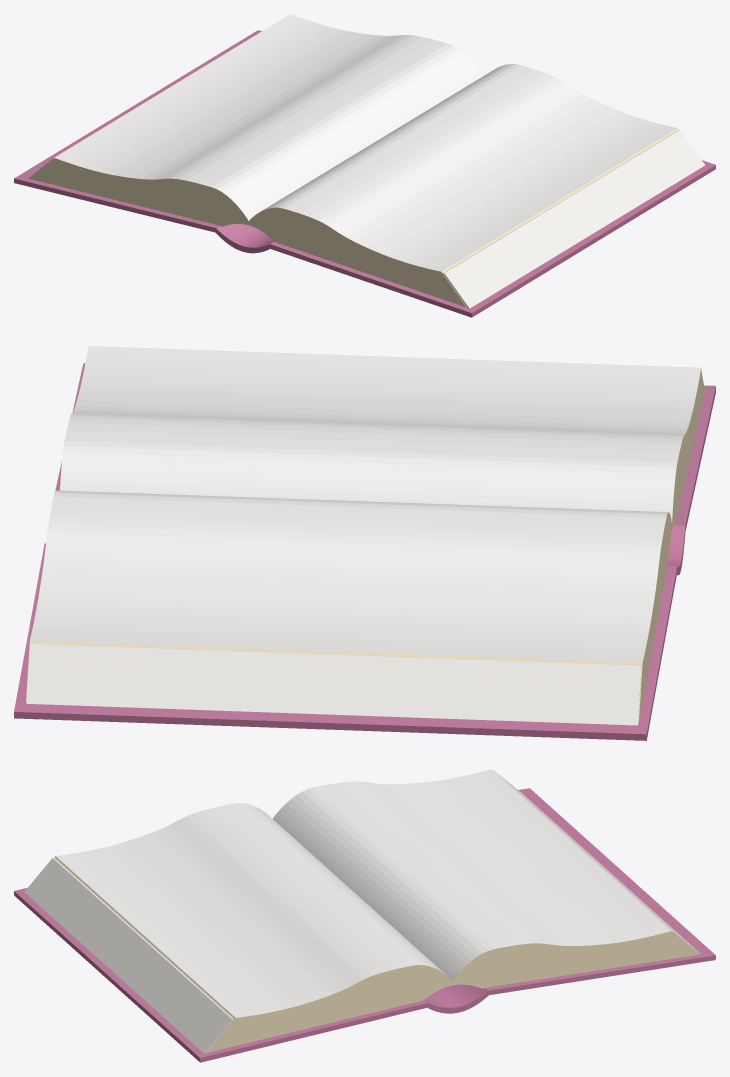
Rendered from opened_book.glb.
3 renders of one model, top to bottom at view 1: azimuth 30°, elevation 25°; view 2: azimuth 150°, elevation 25°; view 3: azimuth 270°, elevation 25°, orthographic. The views are drawn at different scales.
Parts seen in each view (by area): view 1: OPENBOOK01; view 2: OPENBOOK01; view 3: OPENBOOK01.
Boxes of the visible parts, <box> form: OPENBOOK01: <box>14,14,715,317</box>; OPENBOOK01: <box>14,346,715,740</box>; OPENBOOK01: <box>14,769,715,1062</box>.
Size of the model in its own units: 7.2 by 0.6619 by 7.91.
